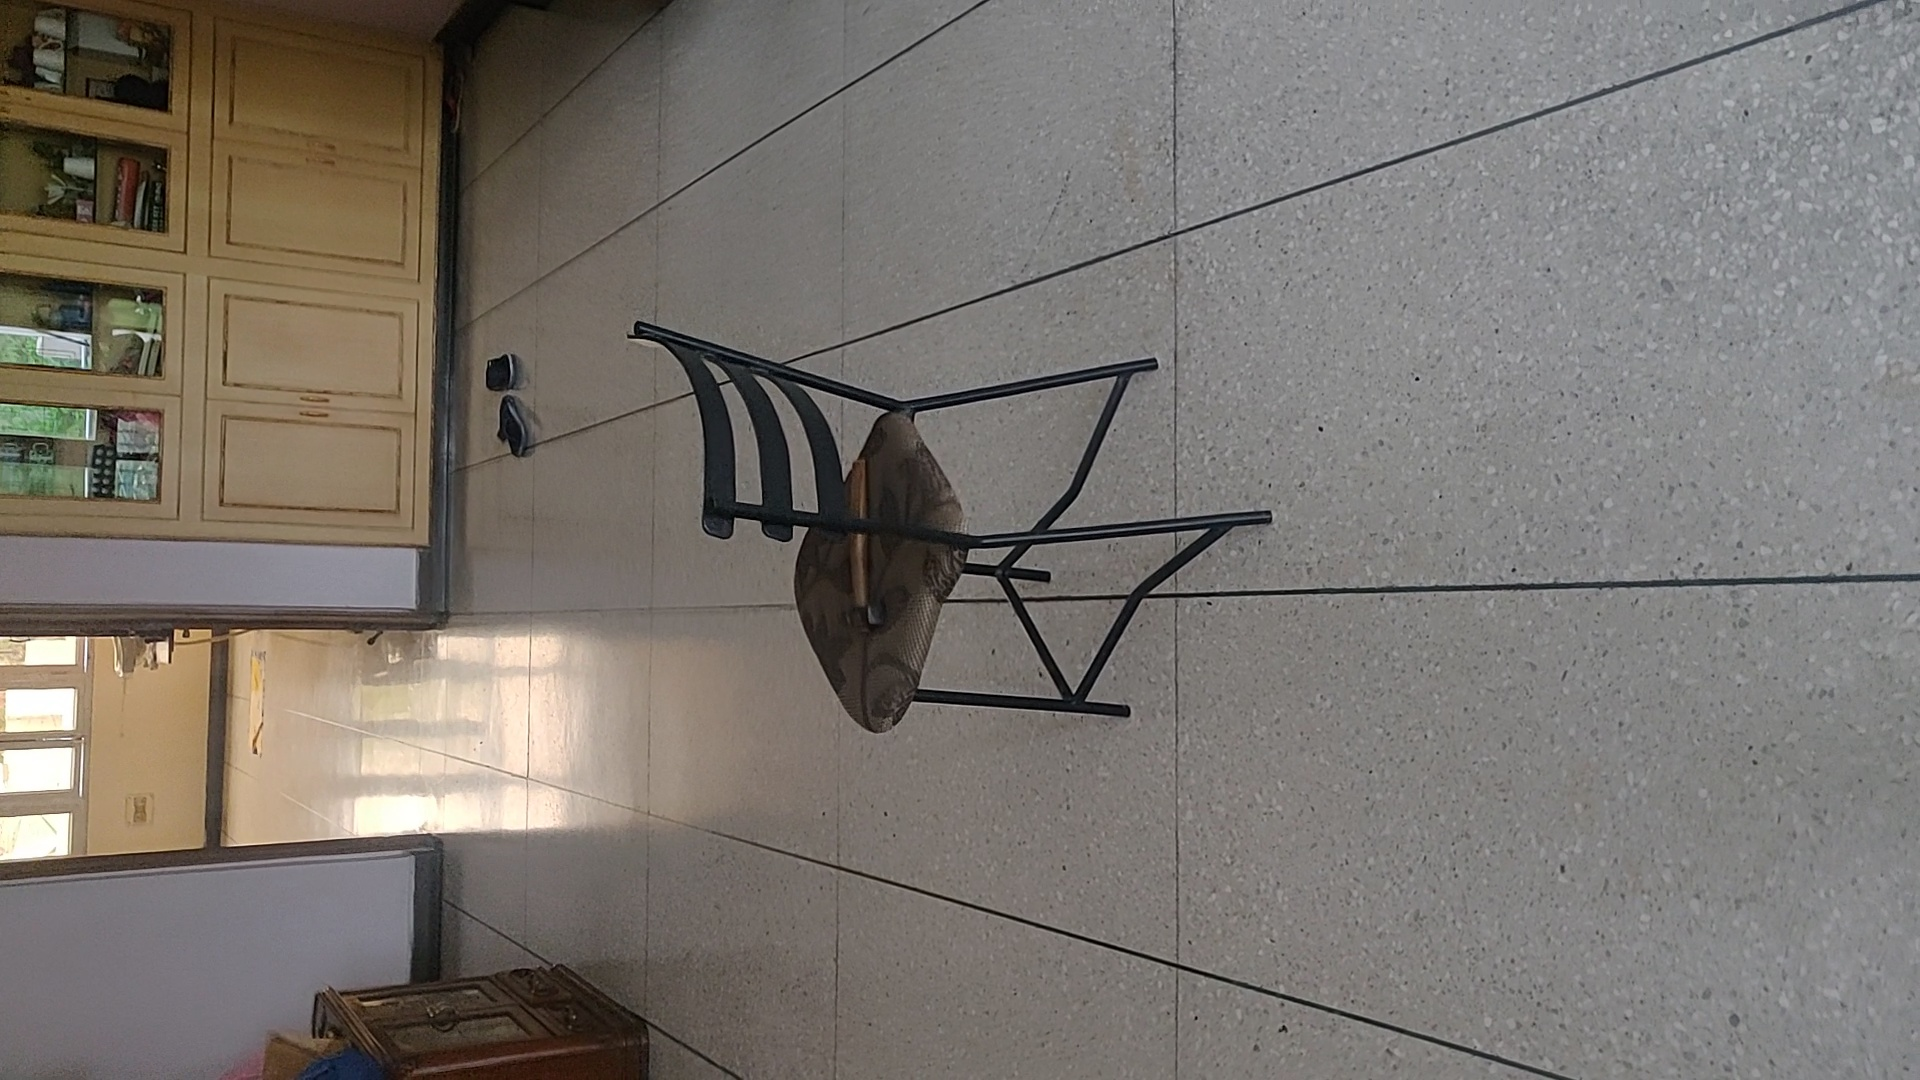hammer: (836, 460, 884, 632)
